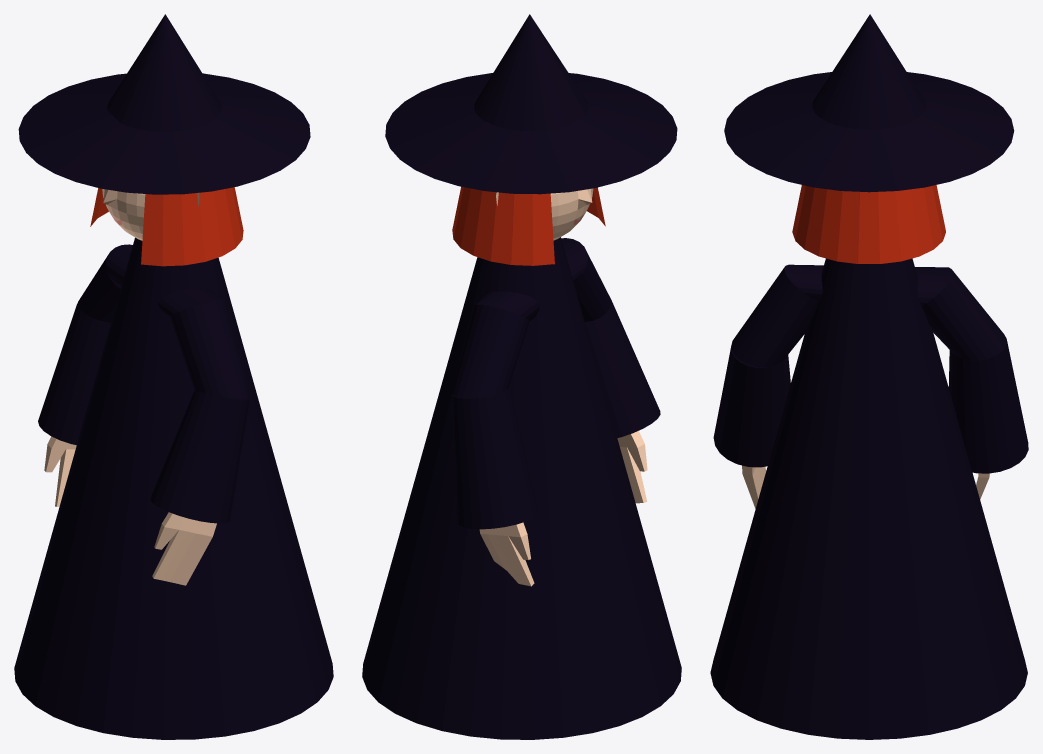
File: wizard.obj
3 renders of one model, left to right at view 1: azimuth 30°, elevation 25°; view 2: azimuth 150°, elevation 25°; view 3: azimuth 270°, elevation 25°, orthographic.
Parts seen in each view (by area): view 1: Test, Kalap, Karok, Haj, Kéz_bal, Fej, Kéz_jobb; view 2: Test, Kalap, Karok, Haj, Kéz_jobb, Fej, Kéz_bal; view 3: Test, Kalap, Karok, Haj, Kéz_bal.
Part boxes in pixels (x1,y1,x2,y2): Test: (14, 237, 333, 739); Kalap: (18, 14, 310, 194); Karok: (38, 244, 249, 523); Haj: (90, 187, 243, 266); Kéz_bal: (152, 512, 216, 585); Fej: (102, 189, 199, 240); Kéz_jobb: (44, 436, 76, 506); Test: (362, 237, 681, 739); Kalap: (385, 14, 677, 194); Karok: (451, 238, 660, 529); Haj: (452, 186, 605, 265); Kéz_jobb: (479, 522, 534, 586); Fej: (496, 188, 593, 240); Kéz_bal: (617, 430, 647, 503); Test: (710, 258, 1027, 739); Kalap: (724, 14, 1014, 192); Karok: (713, 264, 1028, 473); Haj: (792, 185, 945, 263); Kéz_bal: (742, 465, 766, 508).
Bounding box in the file's own units: 1.58 × 3.59 × 1.58.
